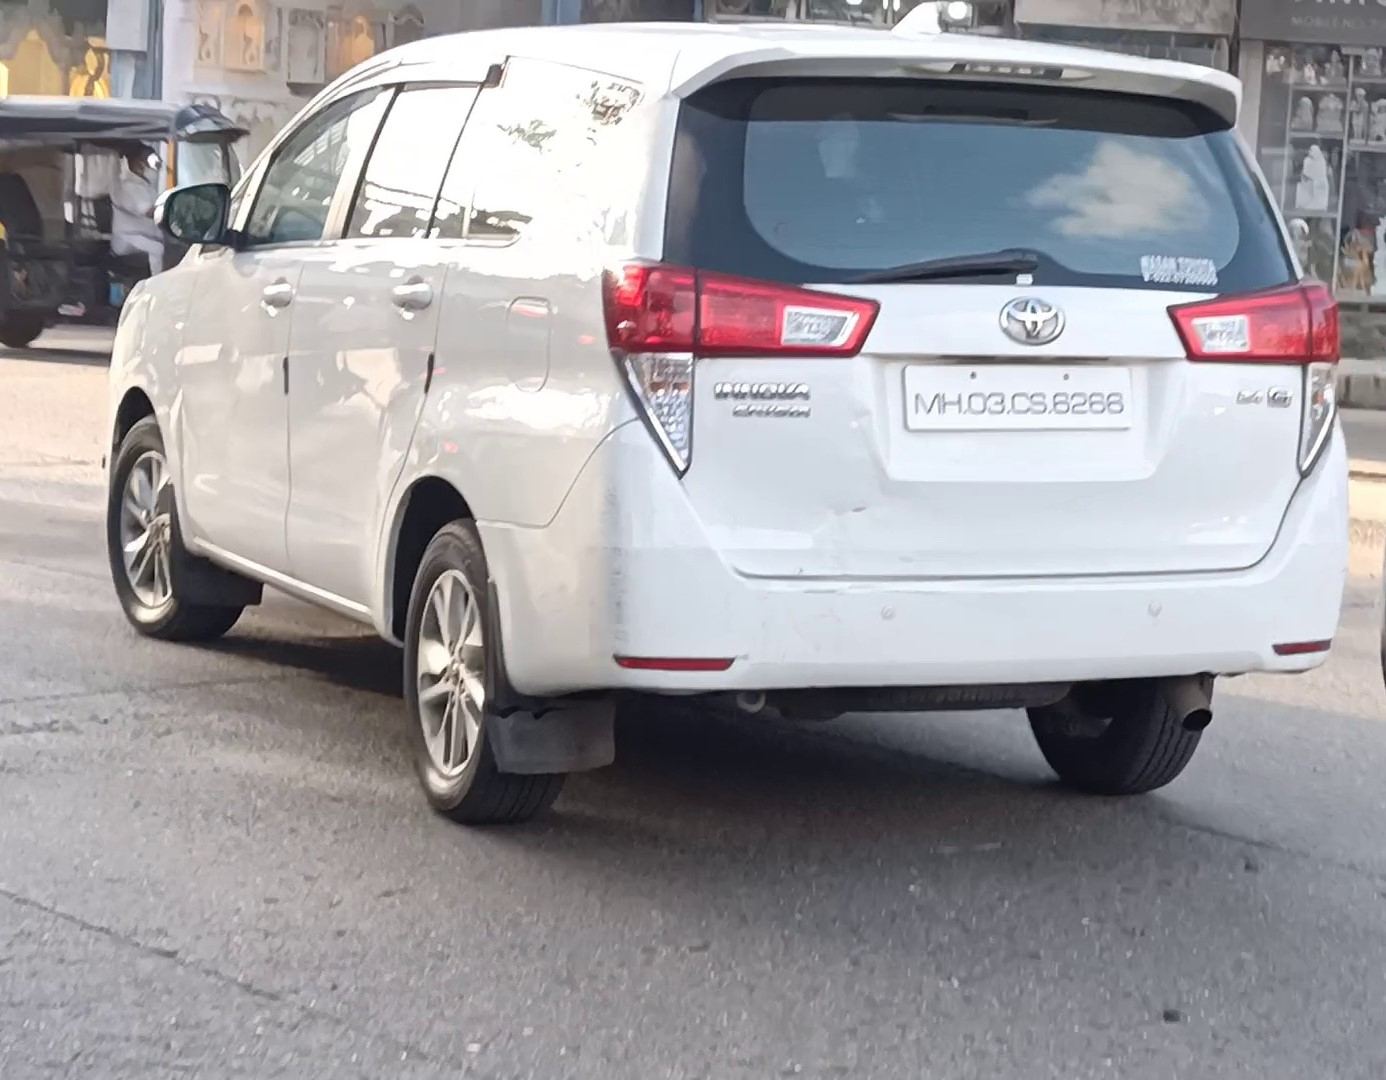MH03CS6266: (902, 362, 1133, 431)
